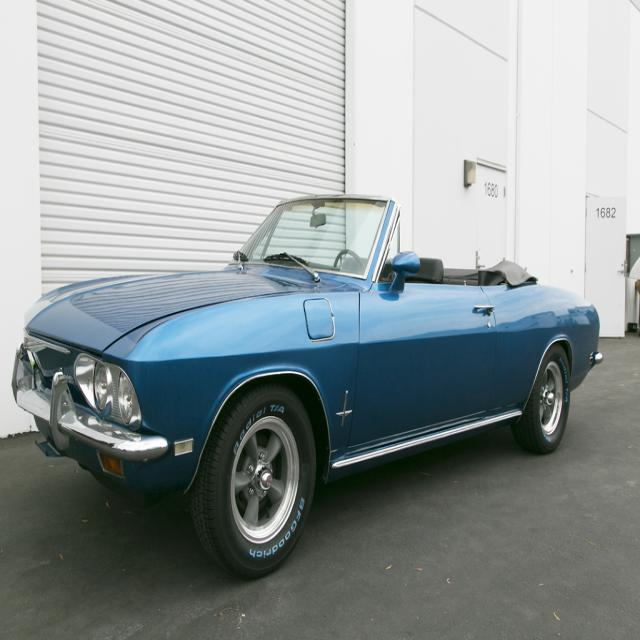car: (7, 179, 598, 579)
